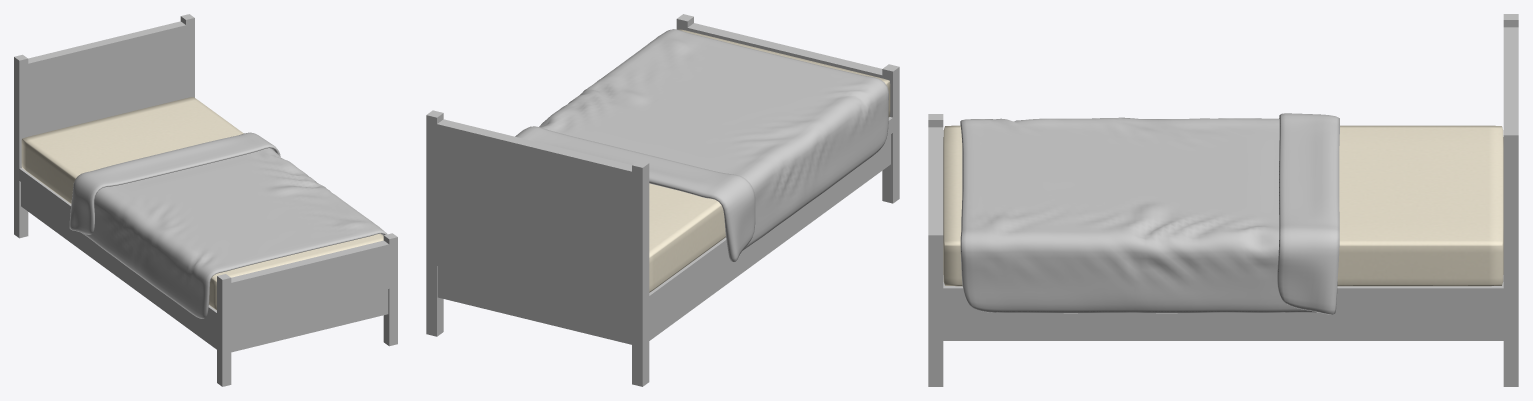
The model's file is Bed03.fbx.
3 views of the same model, side by side, from view 1: azimuth 30°, elevation 25°; view 2: azimuth 150°, elevation 25°; view 3: azimuth 270°, elevation 25° (orthographic). The views are drawn at different scales.
Visible parts, largest first — view 1: BedFrame03, Blanket03, Mattress03; view 2: BedFrame03, Blanket03, Mattress03; view 3: Blanket03, BedFrame03, Mattress03.
Boxes of the visible parts, <box> form: BedFrame03: <box>14,14,397,386</box>; Blanket03: <box>69,132,387,318</box>; Mattress03: <box>21,97,383,310</box>; BedFrame03: <box>426,14,899,386</box>; Blanket03: <box>515,29,888,262</box>; Mattress03: <box>649,29,890,292</box>; Blanket03: <box>960,113,1339,314</box>; BedFrame03: <box>928,14,1518,386</box>; Mattress03: <box>943,125,1503,286</box>.
Bounding box in the file's own units: 121 × 104 × 222.
